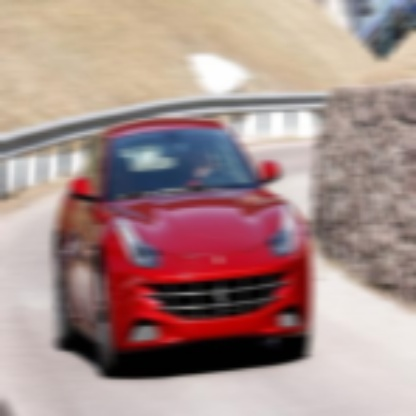Vehicle: (54, 115, 312, 372)
